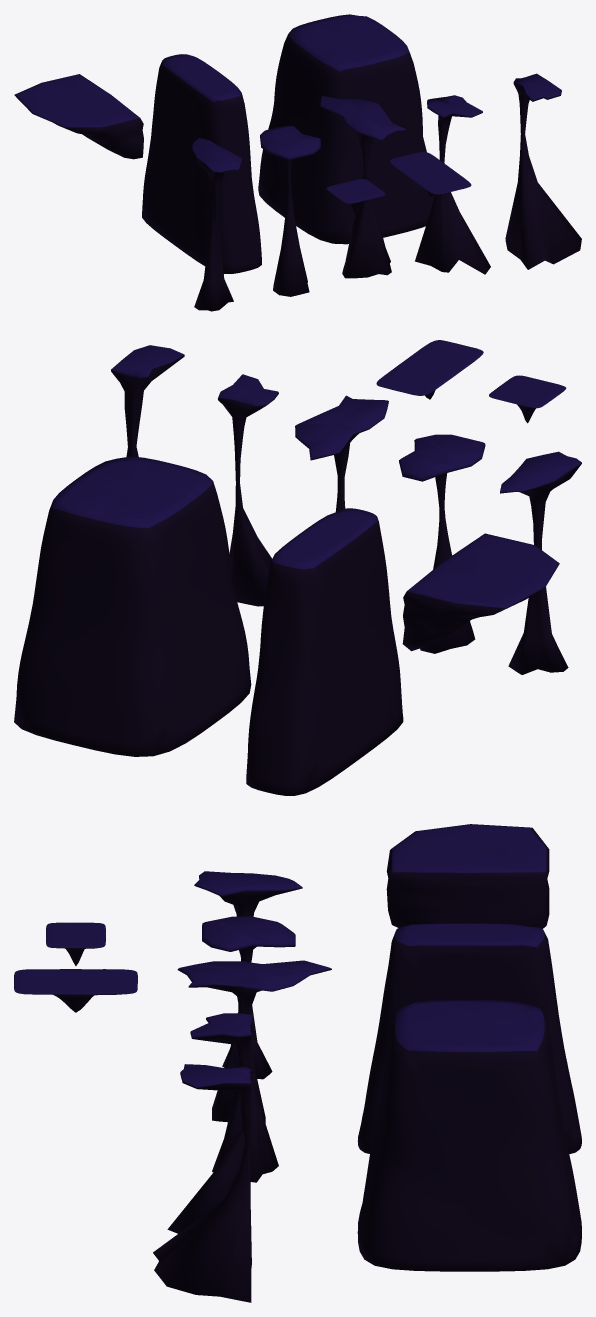
The model's file is LVL3.glb.
3 views of the same model, one above another, from view 1: azimuth 30°, elevation 25°; view 2: azimuth 150°, elevation 25°; view 3: azimuth 270°, elevation 25° (orthographic). The views are drawn at different scales.
Parts seen in each view (by area): view 1: Cube.008, Cube.006, Cube.004, Cube.007, Cube.003, Cube.005, Cube.001, Cube.002, Cube.009, Cube.010; view 2: Cube.008, Cube.006, Cube.007, Cube.002, Cube.005, Cube.001, Cube.003, Cube.009, Cube.004, Cube.010; view 3: Cube.008, Cube.006, Cube.007, Cube.004, Cube.003, Cube.005, Cube.001, Cube.009, Cube.002, Cube.010.
Part boxes in pixels (bbox=[...]): Cube.008: bbox=[258, 14, 434, 244]; Cube.006: bbox=[142, 54, 261, 273]; Cube.004: bbox=[505, 73, 581, 269]; Cube.007: bbox=[14, 74, 143, 159]; Cube.003: bbox=[320, 96, 406, 278]; Cube.005: bbox=[415, 95, 490, 274]; Cube.001: bbox=[260, 126, 320, 296]; Cube.002: bbox=[192, 138, 242, 311]; Cube.009: bbox=[389, 152, 471, 197]; Cube.010: bbox=[326, 179, 385, 214]; Cube.008: bbox=[14, 456, 251, 756]; Cube.006: bbox=[246, 508, 403, 795]; Cube.007: bbox=[402, 533, 559, 651]; Cube.002: bbox=[500, 451, 581, 674]; Cube.005: bbox=[218, 374, 278, 606]; Cube.001: bbox=[399, 434, 485, 653]; Cube.003: bbox=[295, 395, 388, 511]; Cube.009: bbox=[376, 340, 483, 399]; Cube.004: bbox=[111, 345, 184, 457]; Cube.010: bbox=[489, 375, 566, 423]; Cube.008: bbox=[357, 1000, 581, 1271]; Cube.006: bbox=[357, 923, 581, 1153]; Cube.007: bbox=[386, 824, 549, 928]; Cube.004: bbox=[153, 1064, 251, 1302]; Cube.003: bbox=[177, 960, 331, 1182]; Cube.005: bbox=[167, 1013, 252, 1233]; Cube.001: bbox=[202, 916, 295, 1123]; Cube.009: bbox=[14, 969, 137, 1012]; Cube.002: bbox=[194, 871, 302, 1079]; Cube.010: bbox=[46, 922, 105, 965].
Bounding box in the file's own units: 117 × 42.32 × 100.
